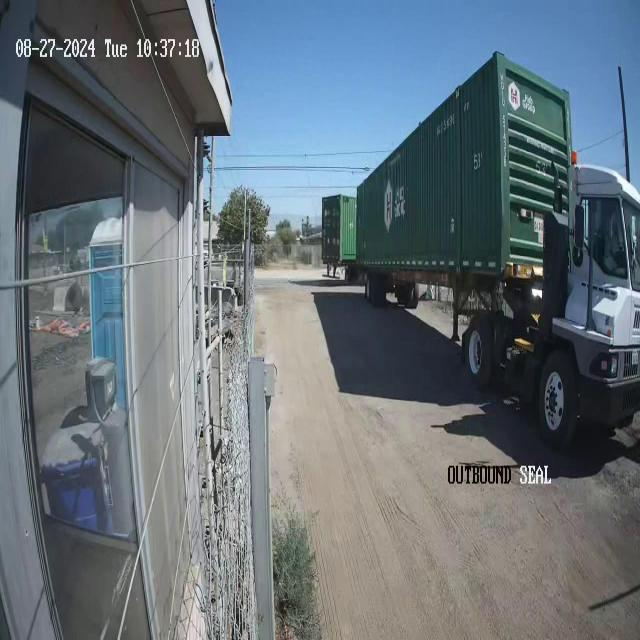CONTAINER: (352, 52, 572, 291)
